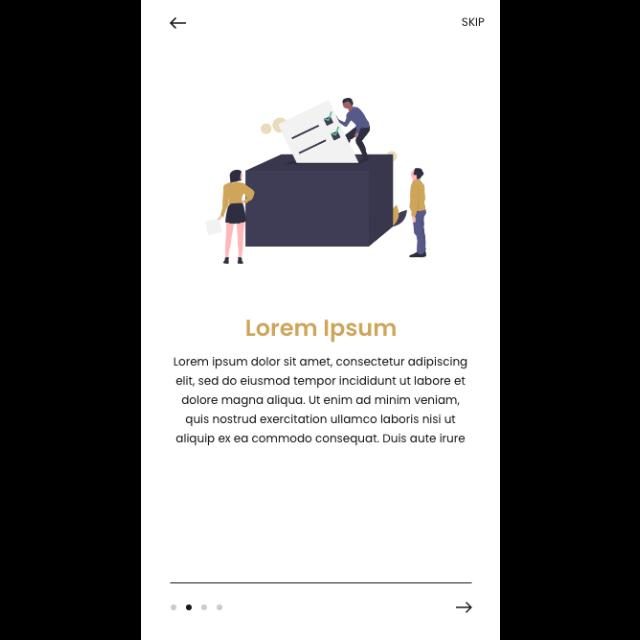icon: (456, 600, 472, 614), (169, 18, 187, 30)
image: (206, 98, 427, 264)
pageindicator: (170, 604, 223, 612)
text: (173, 356, 467, 446), (246, 319, 396, 343), (461, 18, 485, 28)
